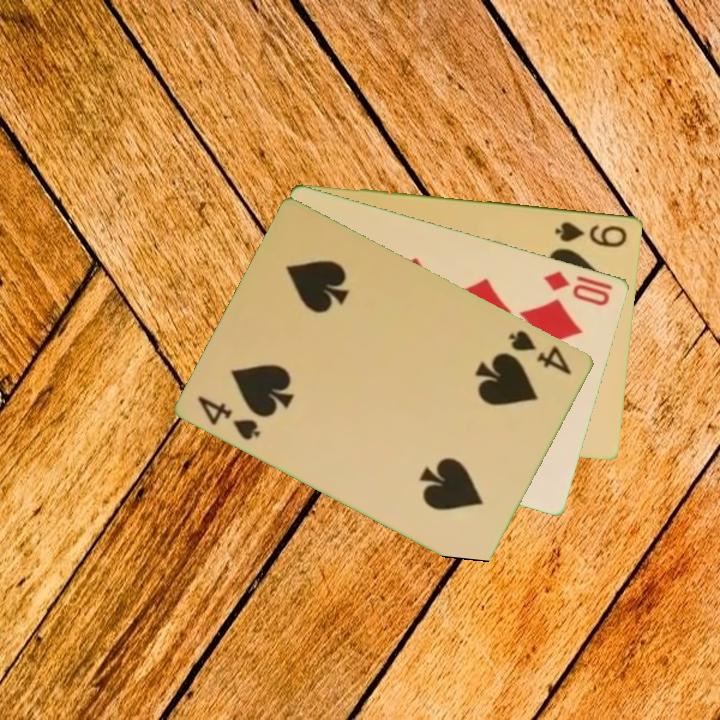10d: (541, 267, 613, 309)
4s: (506, 326, 575, 378), (195, 392, 264, 444)
9s: (552, 217, 630, 250)
